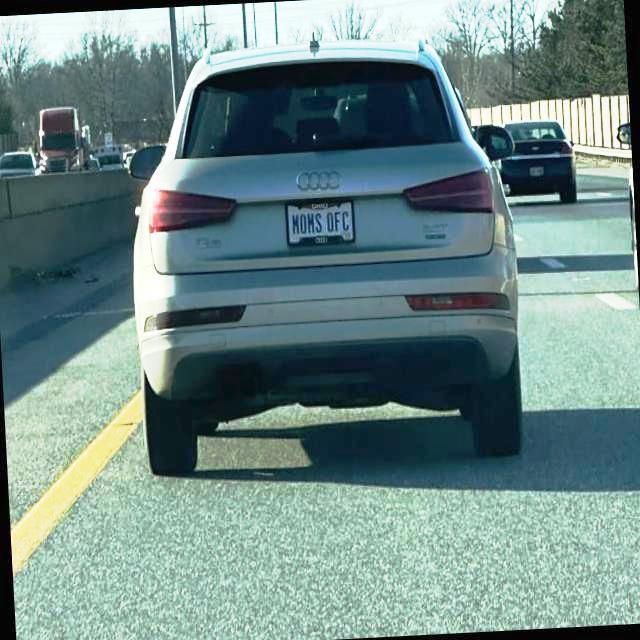license_plate: (288, 200, 362, 250)
